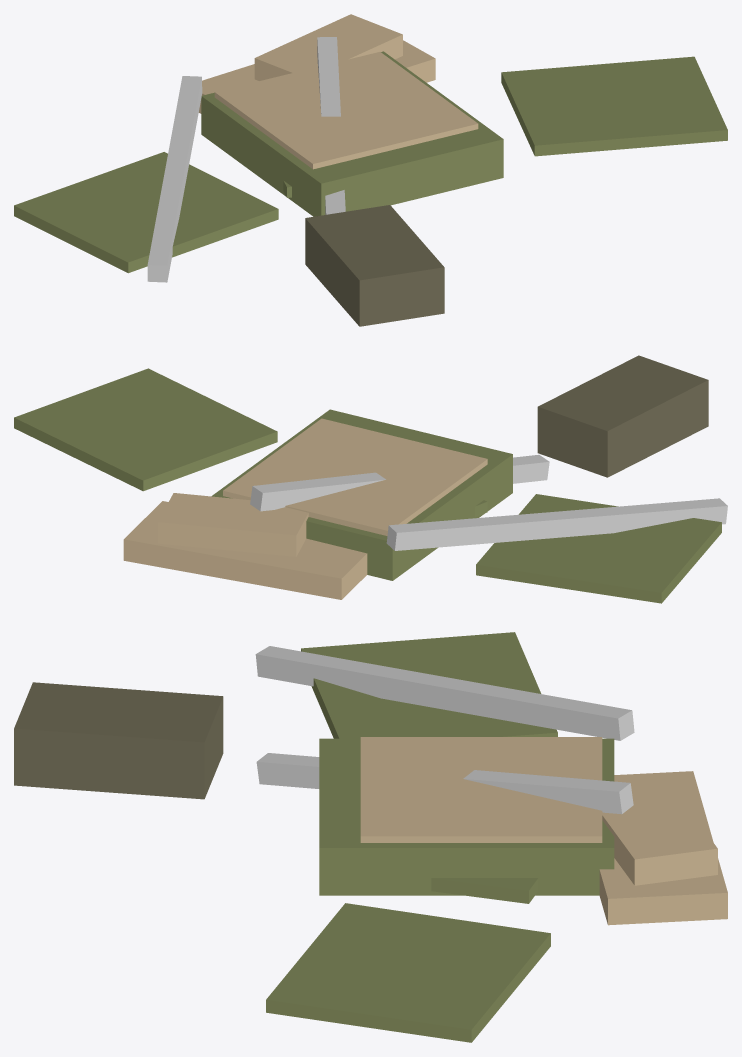
File: SM_HescoCorto1_v3_RemateSacos_e3_Brecha_LOD1.fbx
The picture shows the model from 3 angles, top to bottom: view 1: azimuth 30°, elevation 25°; view 2: azimuth 150°, elevation 25°; view 3: azimuth 270°, elevation 25°; orthographic projection. The views are drawn at different scales.
Parts seen in each view (by area): view 1: SM_hesco_piezas_v55_LOD1; view 2: SM_hesco_piezas_v55_LOD1; view 3: SM_hesco_piezas_v55_LOD1.
Part boxes in pixels (x1,y1,x2,y2): SM_hesco_piezas_v55_LOD1: [14, 14, 727, 326]; SM_hesco_piezas_v55_LOD1: [14, 355, 727, 603]; SM_hesco_piezas_v55_LOD1: [14, 632, 727, 1042].
Bounding box in the file's own units: 3.89 × 0.351 × 2.95.
